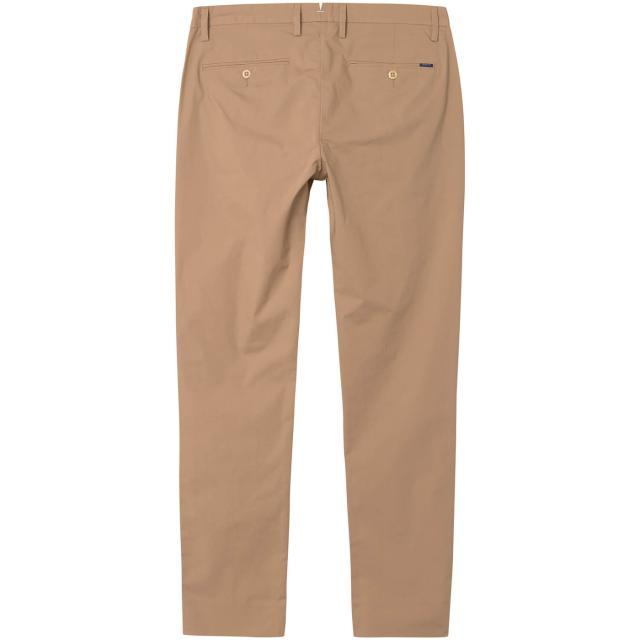long-pants: (174, 0, 467, 638)
